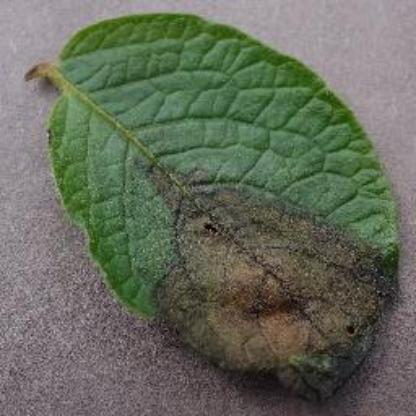Late-Blight: (34, 13, 408, 408)
